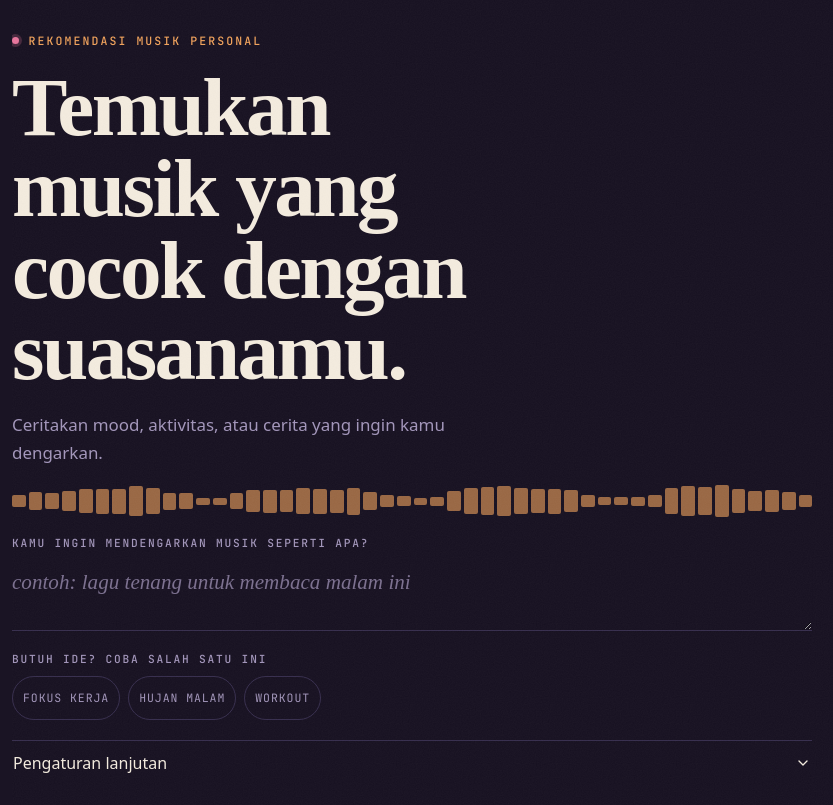
Test: PromptComposer › uses 15 and auto as the default advanced values
Click the button "Pengaturan lanjutan". click: [90, 763]
box: [12,741,812,785]
(page scrolled)
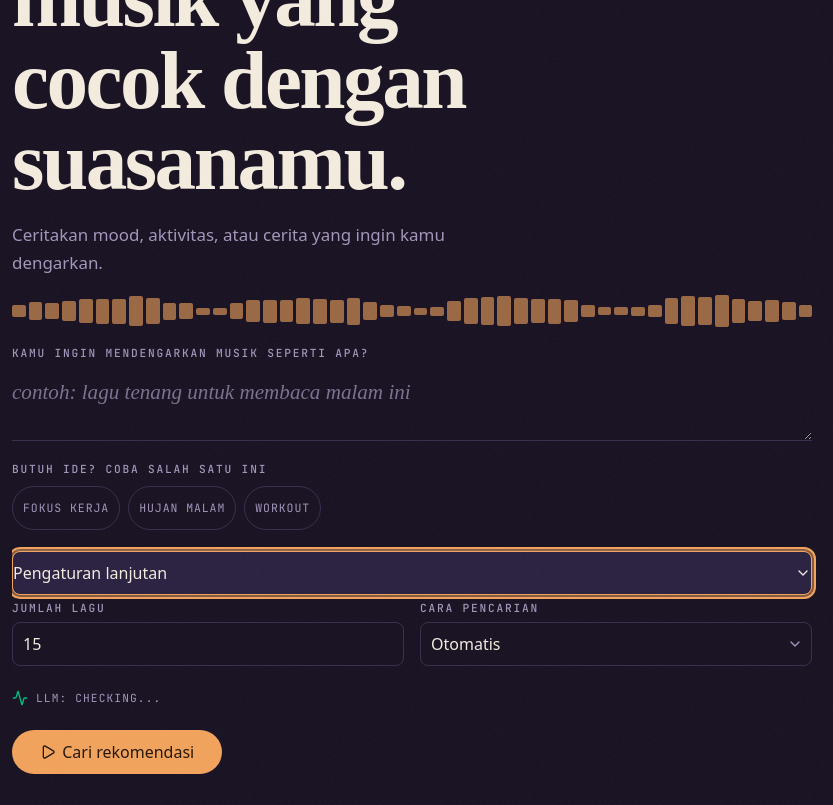
Now the number field labelled "Jumlah lagu" holds "15", box [12,622,404,666]
Now the dropdown named "cara pencarian" reads "Otomatis", box [420,622,812,666]
